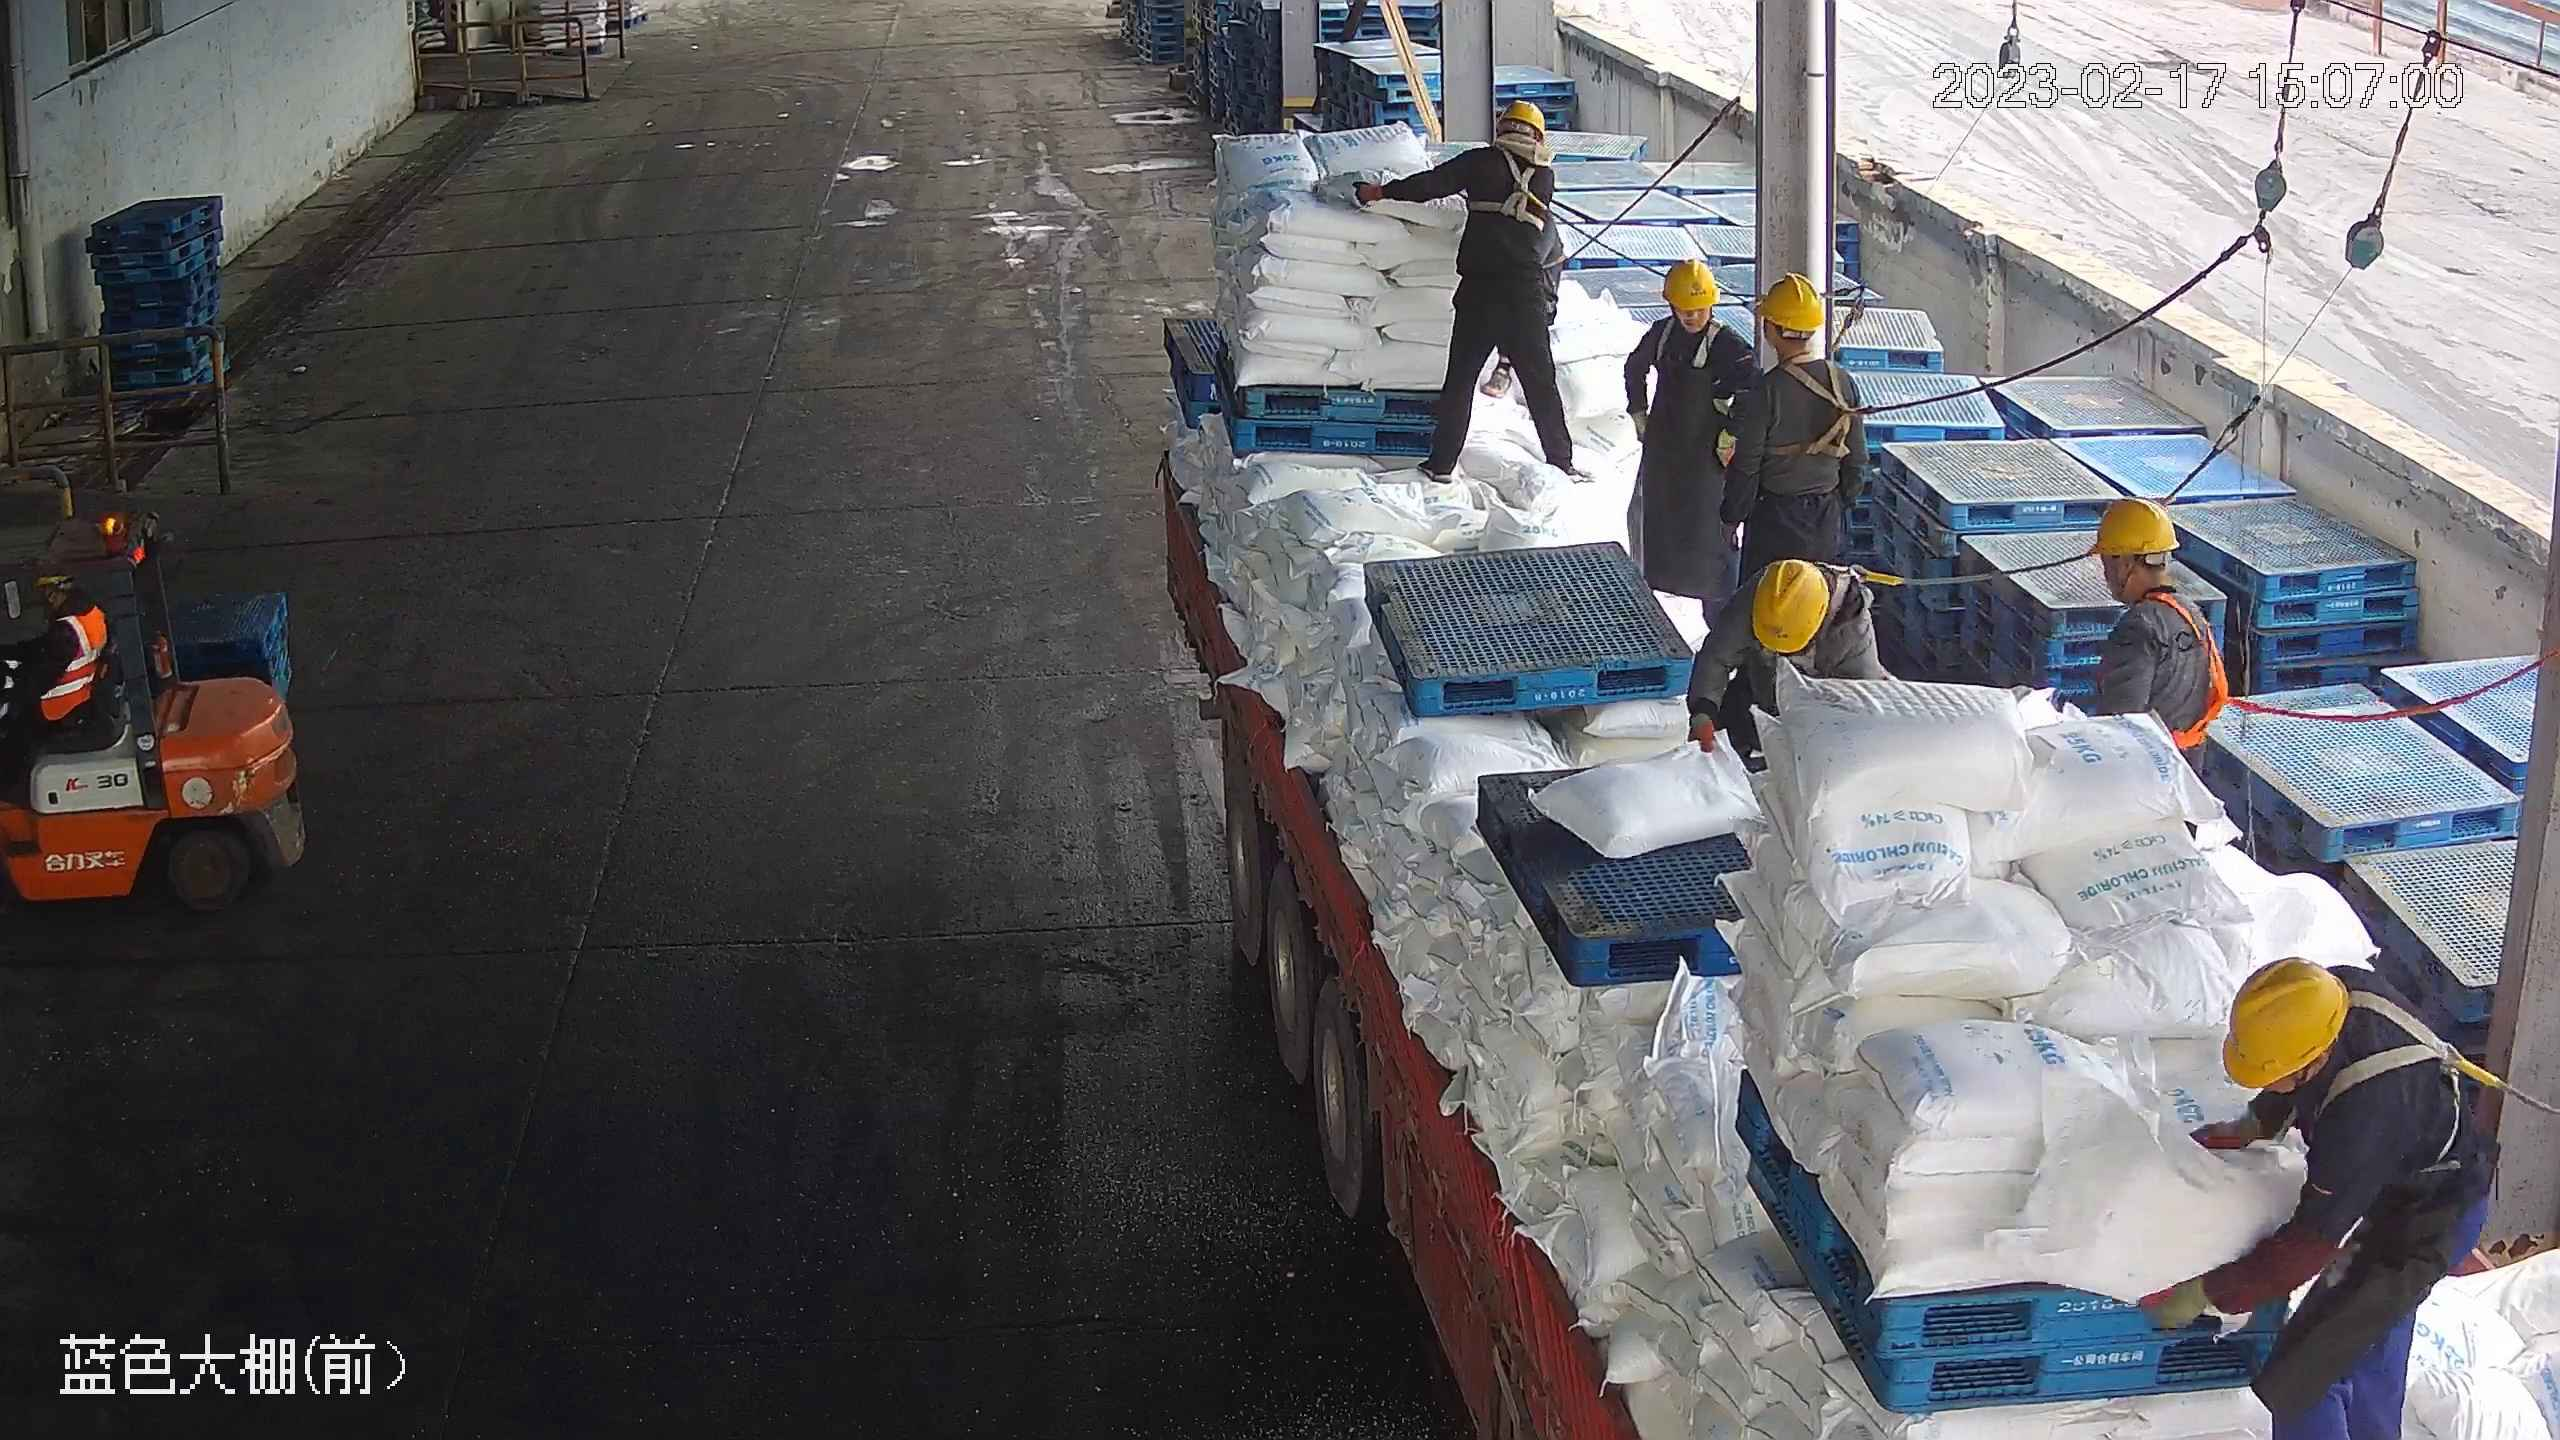belt: (2320, 984, 2491, 1140), (2144, 596, 2261, 752), (1759, 561, 1905, 676), (1781, 356, 1871, 471), (1474, 150, 1559, 230), (1652, 318, 1735, 374)
head: (2208, 960, 2440, 1150), (2086, 498, 2220, 684), (1720, 274, 1857, 411), (1688, 559, 1869, 662), (1630, 261, 1752, 369), (1445, 101, 1557, 213)
helmet: (2222, 957, 2351, 1091), (1751, 559, 1830, 654), (2090, 500, 2179, 564), (1757, 272, 1823, 335), (1662, 262, 1717, 313), (1498, 101, 1544, 137)
people: (2137, 959, 2493, 1440), (1349, 100, 1581, 486), (1620, 262, 1766, 623), (1720, 272, 1866, 591), (1684, 557, 1883, 767)
truck: (1156, 430, 2560, 1440)
